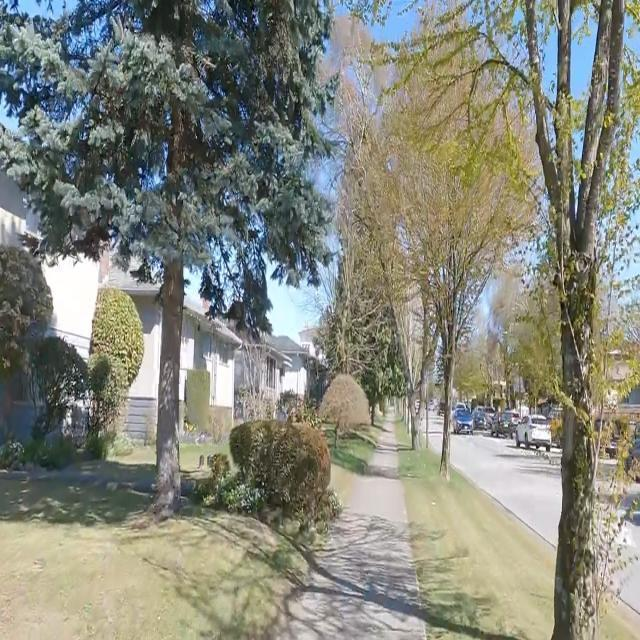Automobile: (515, 415, 551, 449), (491, 409, 517, 438), (452, 403, 473, 433)
Road: (453, 431, 560, 544), (615, 559, 639, 613), (618, 521, 639, 555)
Sidewalk: (275, 418, 425, 639)
